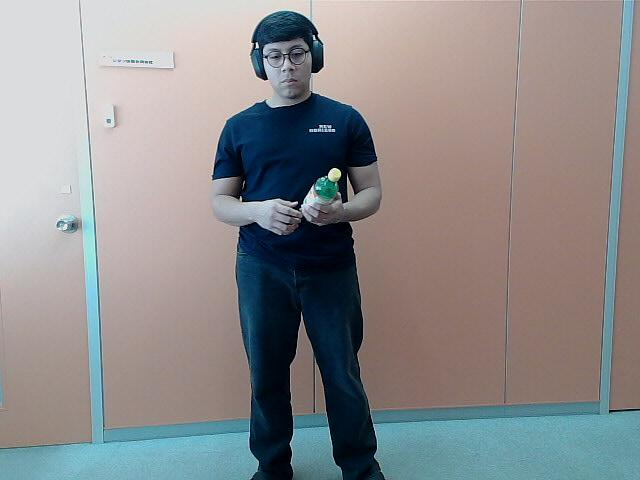Lemon_sapporo: (299, 162, 342, 224)
